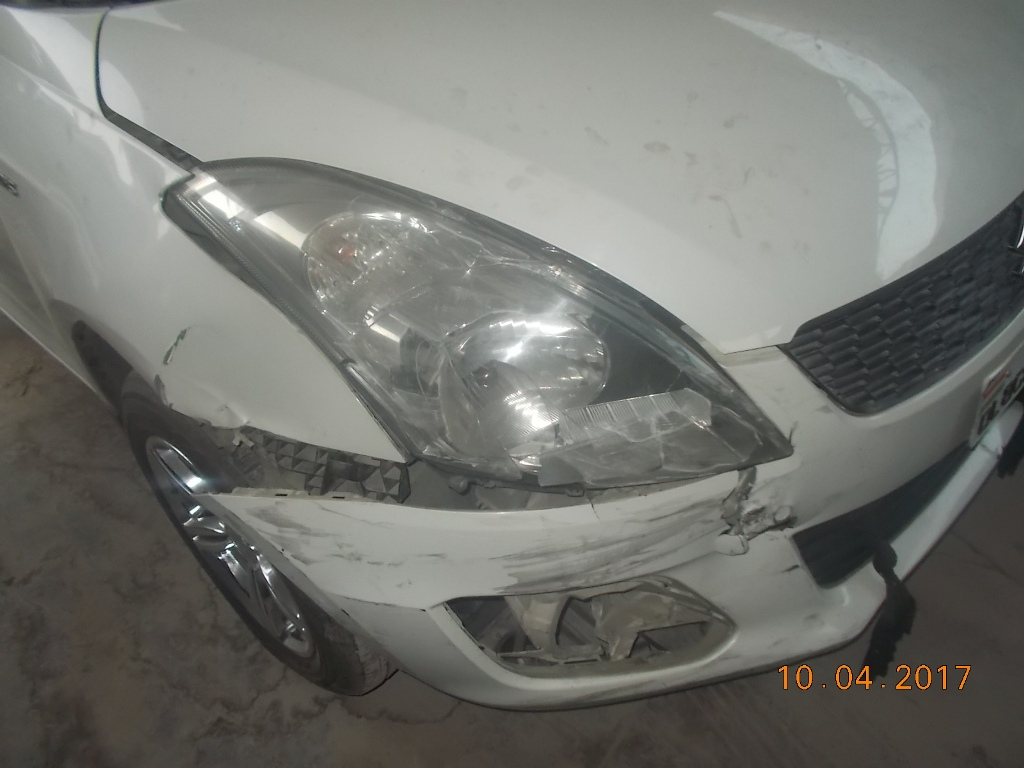Scratch_or_spot: (337, 316, 419, 372)
